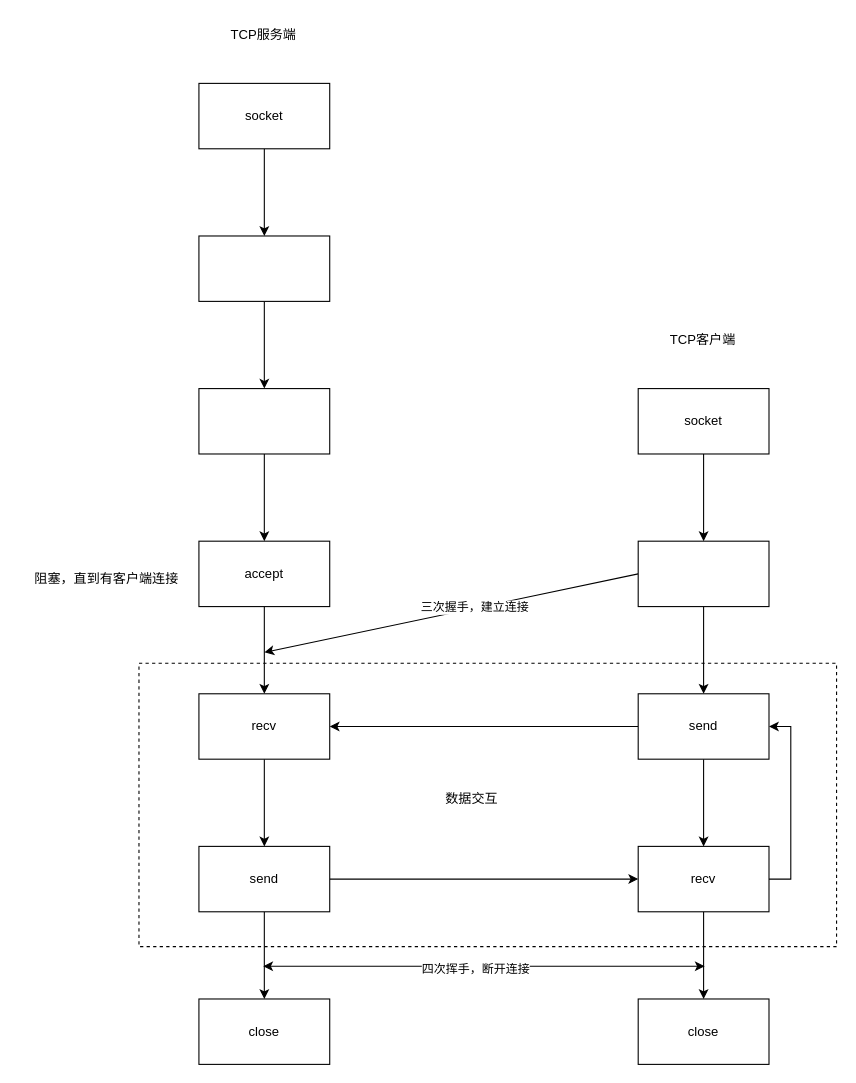
The diagram is 856 pixels wide and 1083 high, and some of its shapes have lost their labels. The shapes that lost their labels are listed below. From the top down, each one's box as (x1, y1, x2, y2) in pixels, then its label:
(198, 235, 330, 301): bind
(198, 387, 330, 454): listen
(637, 540, 769, 607): connect
